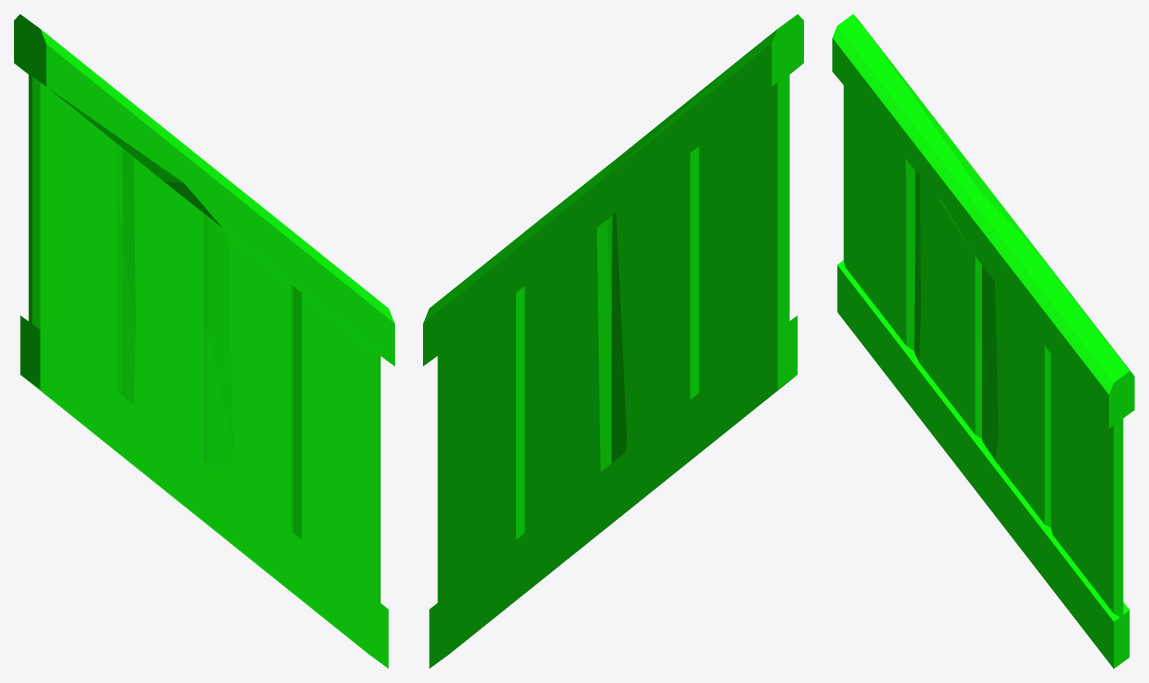
Rendered from SM_Railing_Moderate_Wood_A_1m.fbx.
3 views of the same model, side by side, from view 1: azimuth 30°, elevation 25°; view 2: azimuth 150°, elevation 25°; view 3: azimuth 330°, elevation 25° (orthographic). The views are drawn at different scales.
Visible parts, largest first — view 1: railing-moderate-wood-a-1m; view 2: railing-moderate-wood-a-1m; view 3: railing-moderate-wood-a-1m.
Part boxes in pixels (<box>): railing-moderate-wood-a-1m: <box>14,14,394,668</box>; railing-moderate-wood-a-1m: <box>423,14,803,668</box>; railing-moderate-wood-a-1m: <box>832,14,1134,668</box>.
Size of the model in its own units: 1 by 1.99 by 0.16.
